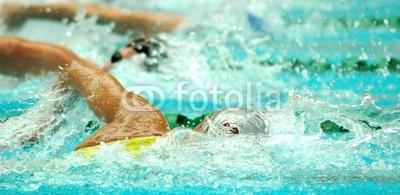swimmer: (53, 61, 264, 157)
